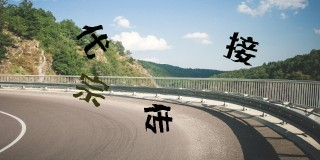代: (76, 24, 109, 59)
传: (143, 104, 172, 134)
宗: (72, 73, 110, 107)
接: (223, 31, 259, 66)
